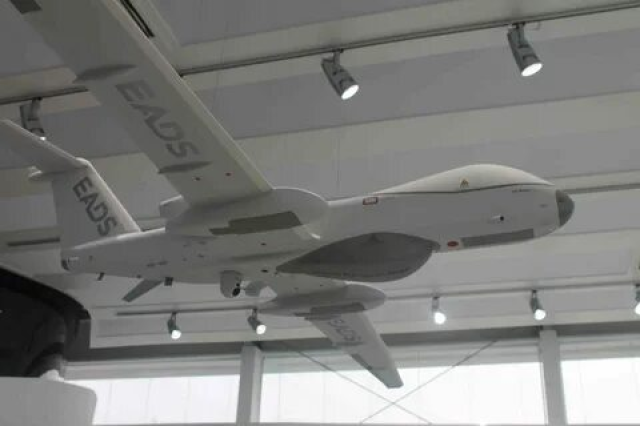military drone: (0, 0, 573, 389)
